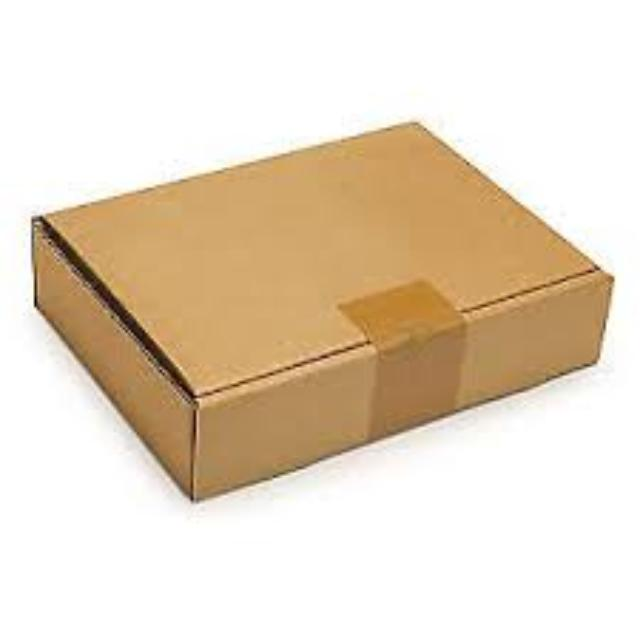cardboard paper: (31, 119, 606, 495)
